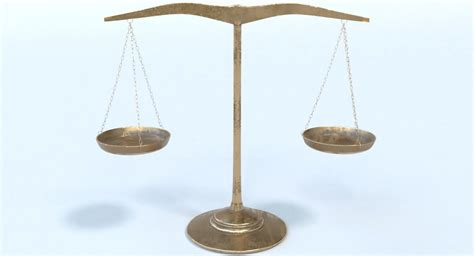Industrial Scale: (95, 1, 379, 256)
